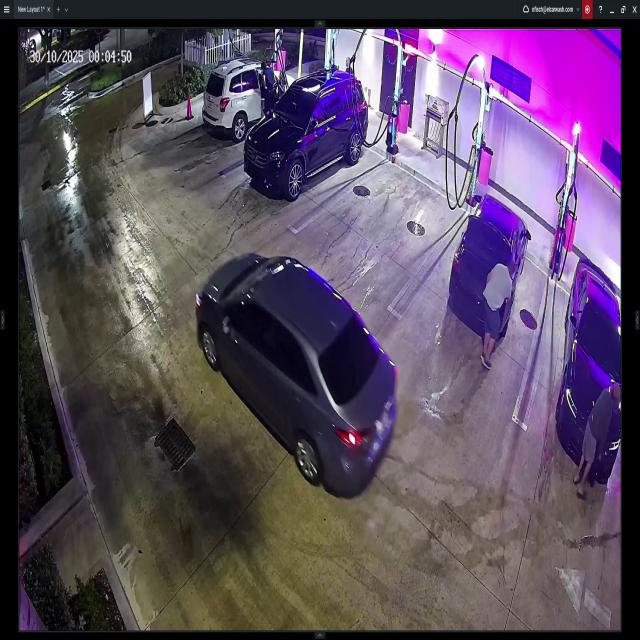Car: (195, 244, 397, 493), (243, 72, 369, 198), (559, 254, 621, 480), (450, 186, 528, 344), (203, 52, 299, 137)
